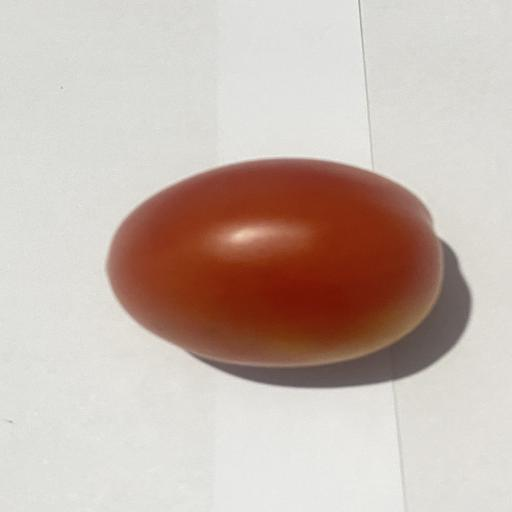ripe: (107, 159, 443, 367)
spoiled: (107, 159, 443, 367)
